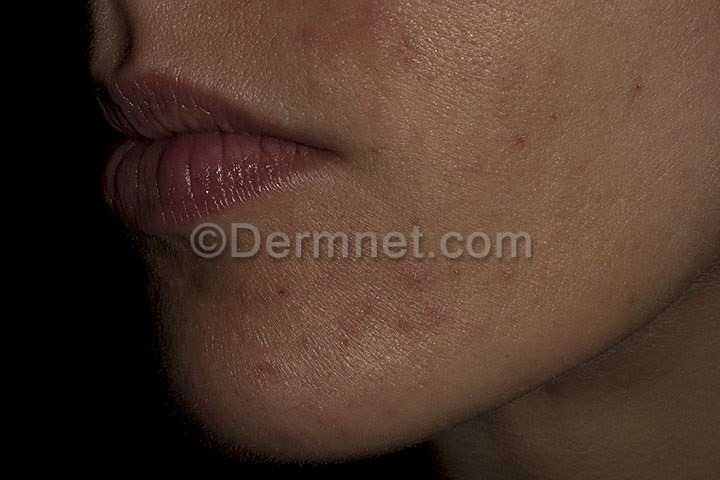Acne: (272, 8, 490, 398)
